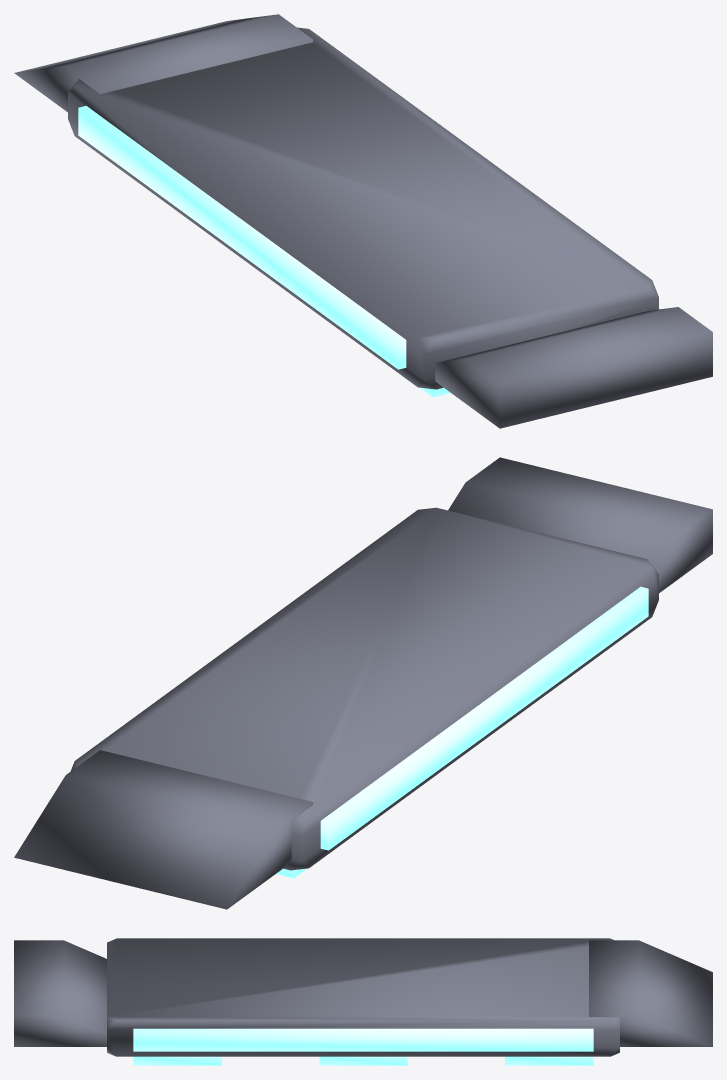
File: STR_Board_Pulse.glb
3 views of the same model, one above another, from view 1: azimuth 30°, elevation 25°; view 2: azimuth 150°, elevation 25°; view 3: azimuth 270°, elevation 25° (orthographic). The views are drawn at different scales.
Parts seen in each view (by area): view 1: deck, tail, rail_-1, nose; view 2: deck, nose, tail, rail_-1; view 3: deck, nose, rail_1, tail, thruster_-0.42, thruster_0.0, thruster_0.42.
Boxes of the visible parts, bbox=[...] form: deck: bbox=[68, 27, 658, 389]; tail: bbox=[435, 307, 712, 428]; rail_-1: bbox=[78, 106, 406, 369]; nose: bbox=[14, 14, 313, 112]; deck: bbox=[71, 507, 658, 870]; nose: bbox=[14, 750, 313, 909]; tail: bbox=[448, 457, 712, 592]; rail_-1: bbox=[320, 586, 648, 850]; deck: bbox=[107, 938, 619, 1056]; nose: bbox=[589, 940, 712, 1046]; rail_1: bbox=[133, 1028, 593, 1051]; tail: bbox=[14, 940, 106, 1046]; thruster_-0.42: bbox=[505, 1056, 593, 1065]; thruster_0.0: bbox=[319, 1056, 407, 1065]; thruster_0.42: bbox=[133, 1056, 221, 1065].
Bounding box in the file's own units: 0.47 × 0.14 × 1.58.
